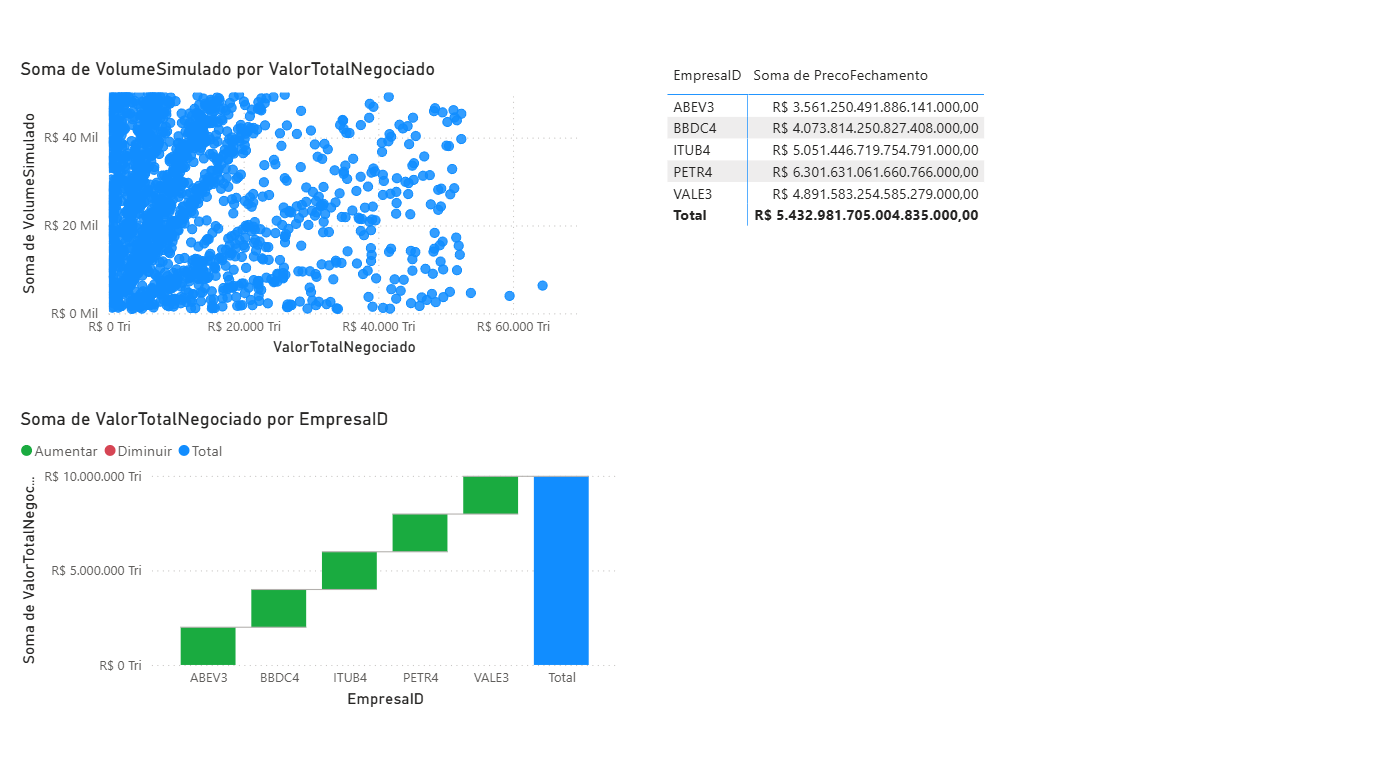

What the dashboard file says about the page in this screenshot:
{"tool":"powerbi","page":{"name":"Página 5","canvas":[1280,720],"ordinal":4},"visuals":[{"type":"scatterChart","fields":{"X":["fato_vendas_bovespa.ValorTotalNegociado"],"Y":["Sum(fato_vendas_bovespa.VolumeSimulado)"]},"box":[17.3,54.3,559.3,279],"z":0},{"type":"waterfallChart","fields":{"Category":["mn_setor_empresa.EmpresaID"],"Y":["Sum(fato_vendas_bovespa.ValorTotalNegociado)"]},"box":[17.3,375.3,560.5,280.2],"z":1000},{"type":"pivotTable","fields":{"Rows":["dim_empresa.EmpresaID"],"Values":["Sum(fato_vendas_bovespa.PrecoFechamento)"]},"box":[612.3,54.3,558,279],"z":1001}]}

Visuals, with their boxes in screenshot pixels (x1, y1, x2, y2), scaled from the page's 1280x720 canvas onto the 1386x780 screenshot:
scatterChart - fato_vendas_bovespa.ValorTotalNegociado x Sum(fato_vendas_bovespa.VolumeSimulado): 19 59 624 361
waterfallChart - mn_setor_empresa.EmpresaID x Sum(fato_vendas_bovespa.ValorTotalNegociado): 19 407 626 710
pivotTable - dim_empresa.EmpresaID x Sum(fato_vendas_bovespa.PrecoFechamento): 663 59 1267 361
